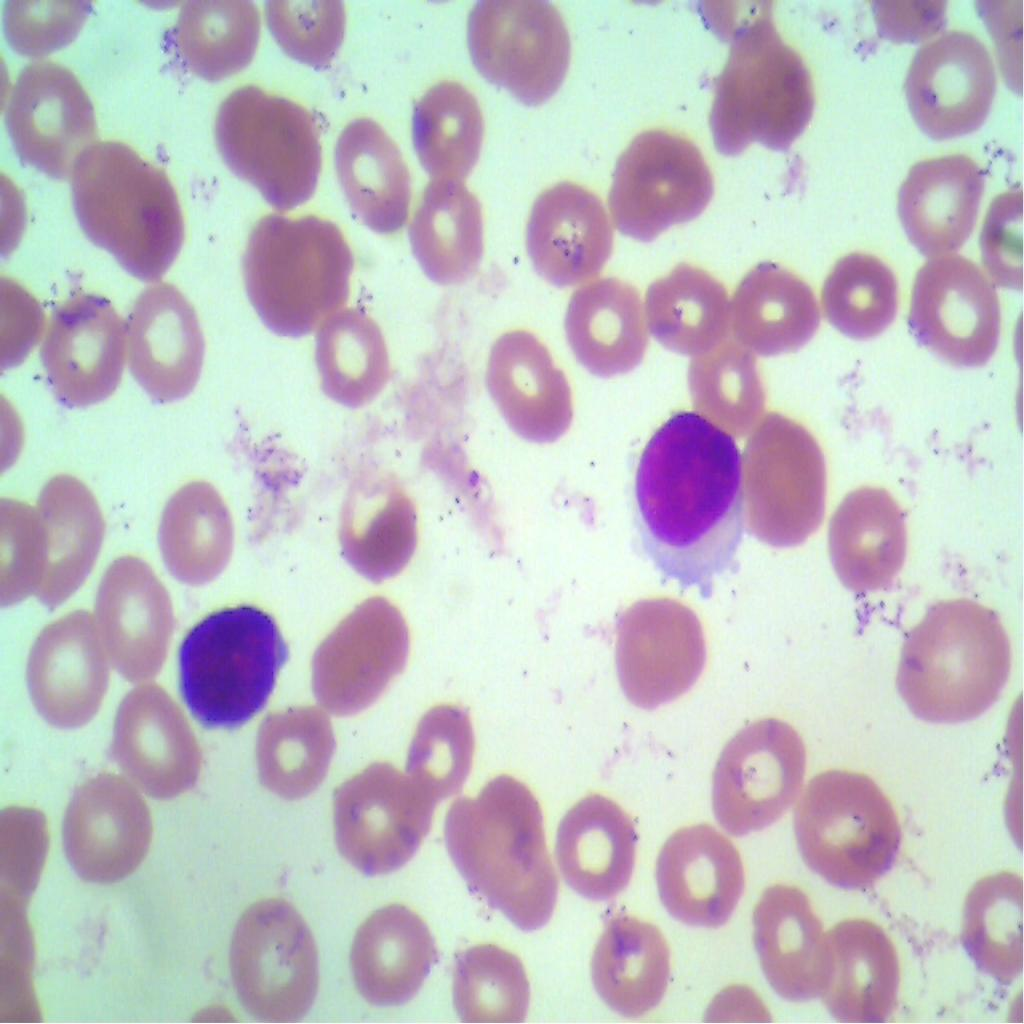Eritrosit: (888, 589, 1014, 725), (599, 112, 723, 249), (730, 405, 838, 561), (26, 271, 140, 417), (242, 204, 355, 343), (221, 75, 333, 211), (146, 451, 246, 594), (706, 40, 826, 158), (218, 888, 322, 1023), (9, 464, 104, 608), (793, 772, 909, 886), (706, 710, 812, 832), (486, 312, 578, 450), (896, 25, 1002, 144), (110, 674, 209, 797), (90, 545, 172, 692), (8, 54, 102, 182), (66, 774, 162, 897), (610, 588, 706, 711), (646, 812, 748, 927), (310, 600, 412, 714), (124, 278, 213, 408), (915, 248, 1004, 374), (558, 272, 652, 390), (550, 776, 640, 898), (338, 892, 430, 1010), (678, 319, 766, 442), (526, 165, 618, 282), (330, 760, 422, 874), (476, 828, 566, 941), (339, 109, 416, 241), (22, 607, 108, 725), (310, 302, 402, 411), (892, 145, 986, 251), (753, 884, 839, 998), (330, 481, 421, 588), (590, 909, 676, 1022), (821, 484, 908, 594), (728, 247, 819, 352), (158, 0, 270, 84), (441, 774, 541, 868), (816, 912, 899, 1023), (646, 257, 735, 358), (404, 698, 484, 810), (406, 68, 484, 182), (106, 172, 188, 280), (413, 172, 486, 288), (824, 234, 898, 348), (953, 870, 1023, 984), (448, 925, 528, 1023), (69, 141, 146, 242), (505, 0, 577, 101), (459, 1, 533, 91)
Limfoblast: (630, 406, 744, 550), (178, 595, 288, 740)
